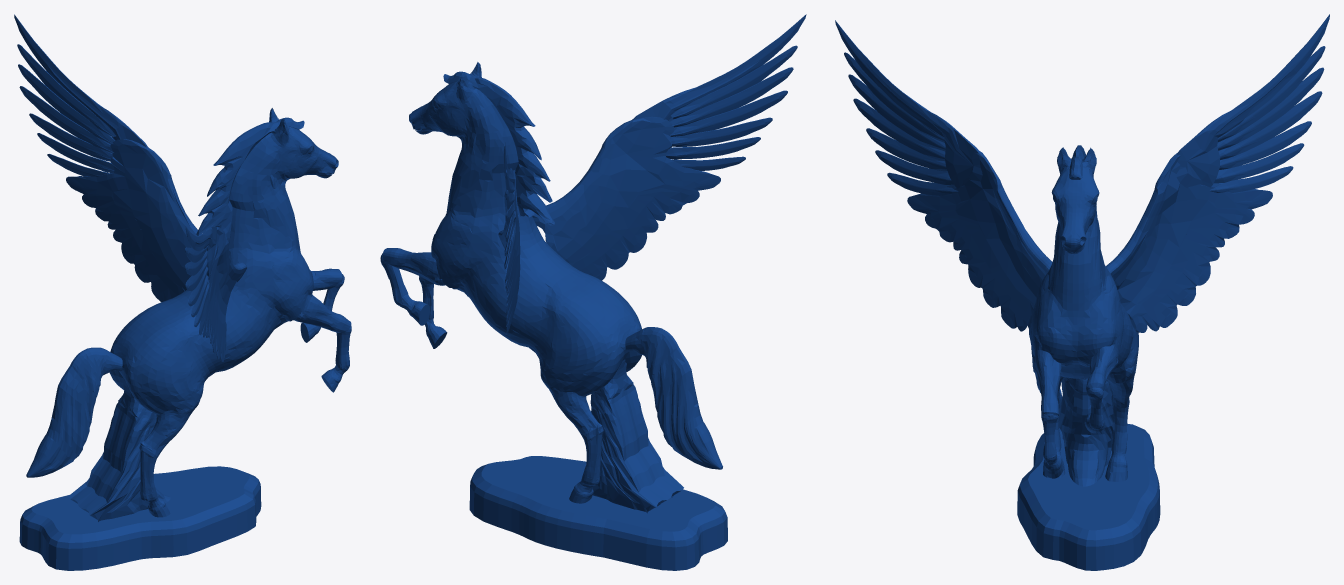
File: cleanhorse.obj
3 renders of one model, left to right at view 1: azimuth 30°, elevation 25°; view 2: azimuth 150°, elevation 25°; view 3: azimuth 270°, elevation 25°, orthographic. The views are drawn at different scales.
Parts seen in each view (by area): view 1: HORSE; view 2: HORSE; view 3: HORSE.
Part boxes in pixels (bbox=[...]): HORSE: bbox=[14, 14, 351, 570]; HORSE: bbox=[380, 14, 806, 570]; HORSE: bbox=[835, 14, 1329, 570].
Size of the model in its own units: 2.43 by 3.24 by 3.
